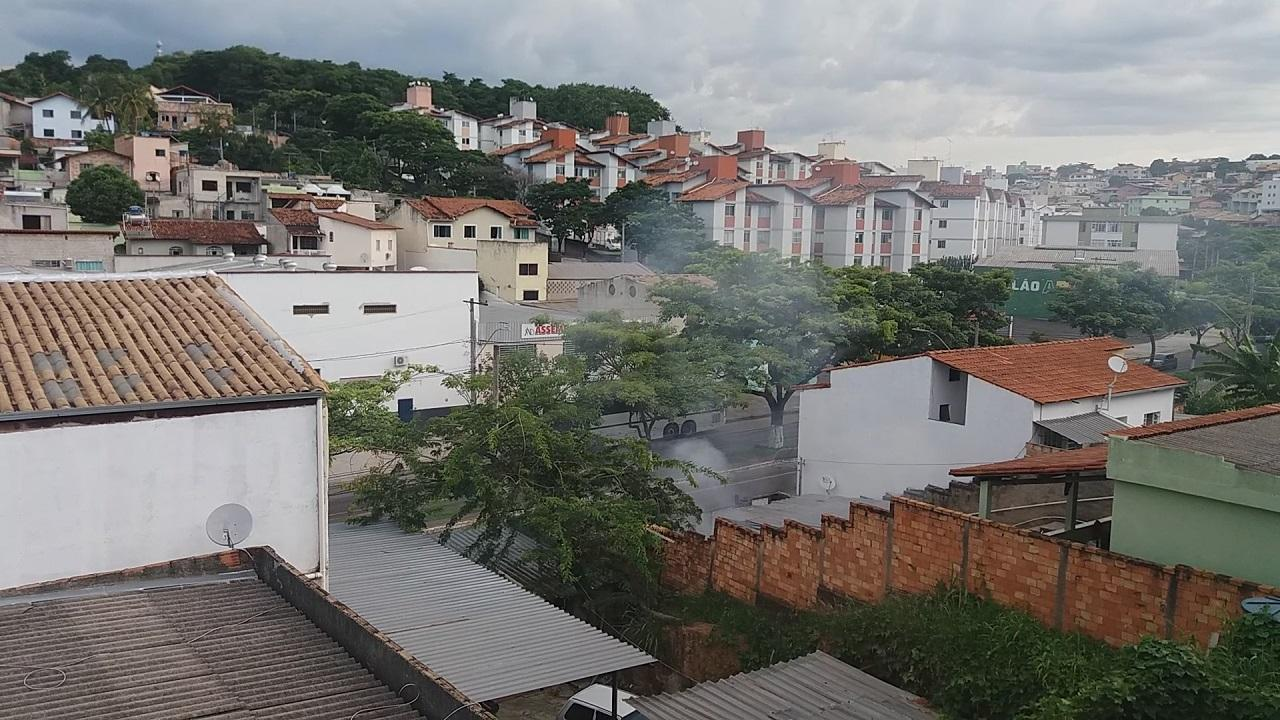smoke: (662, 432, 738, 516)
